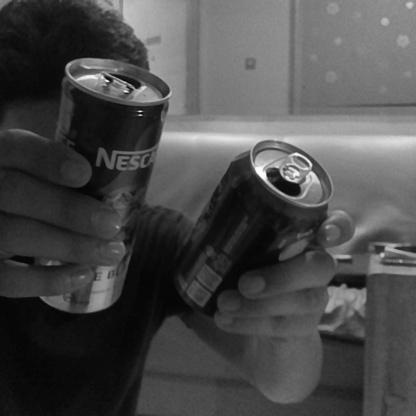alumunium_can: (36, 58, 172, 320), (179, 134, 331, 318)
